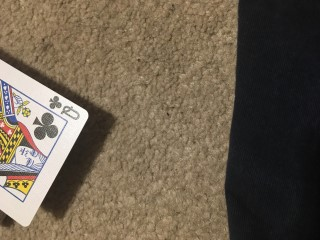QueenOfClubs: (1, 58, 90, 228)
